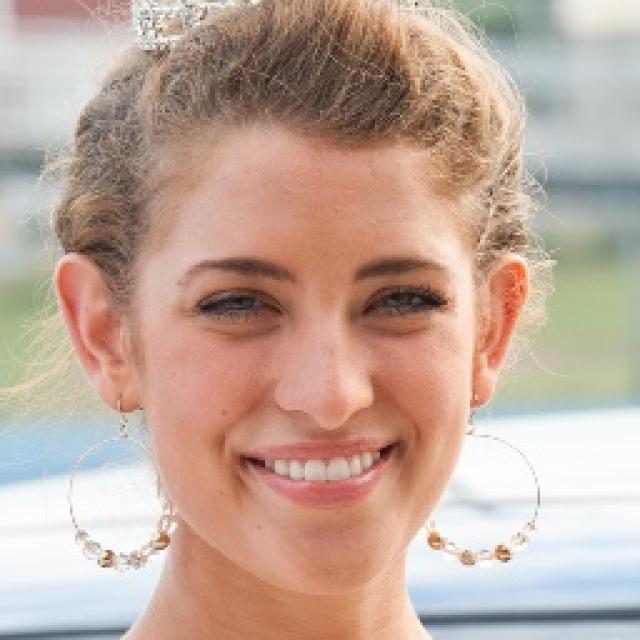earlobe: (53, 255, 144, 414), (470, 253, 529, 411)
